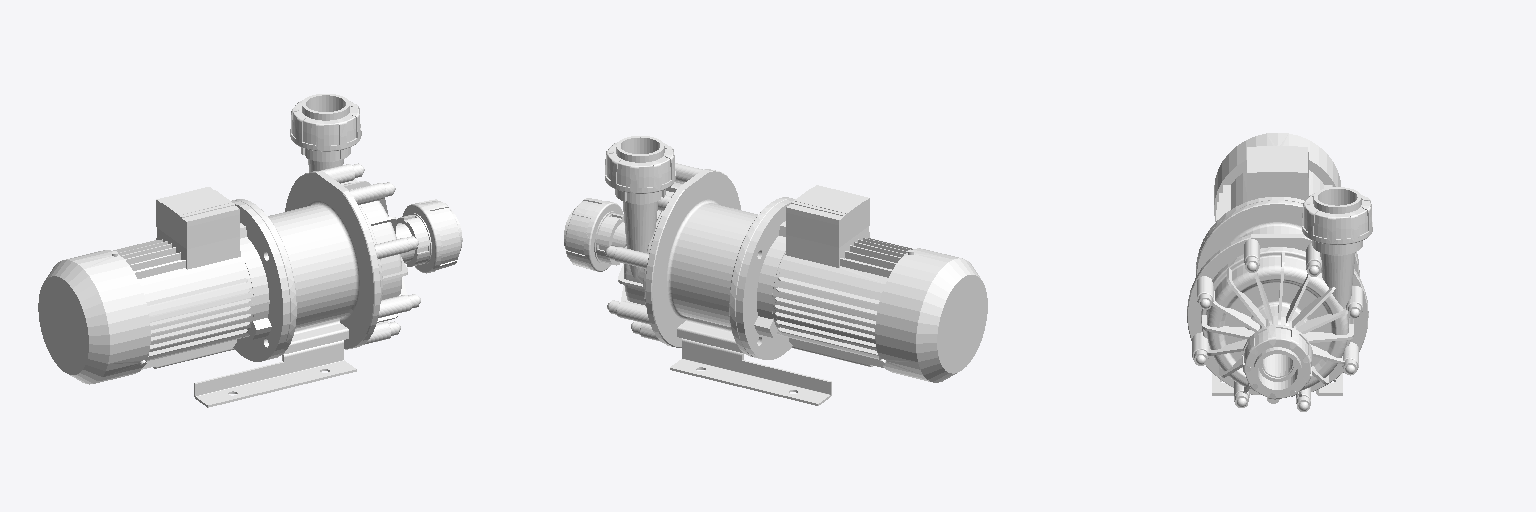
Rendered from pump.obj.
3 renders of one model, left to right at view 1: azimuth 30°, elevation 25°; view 2: azimuth 150°, elevation 25°; view 3: azimuth 270°, elevation 25°, orthographic.
Visible parts, largest first — view 1: Object_0; view 2: Object_0; view 3: Object_0.
Boxes of the visible parts, x1,y1,x2,y2 form: Object_0: [38, 94, 462, 407]; Object_0: [564, 136, 987, 405]; Object_0: [1187, 133, 1372, 411].
Size of the model in its own units: 45.71 by 24.18 by 19.05.